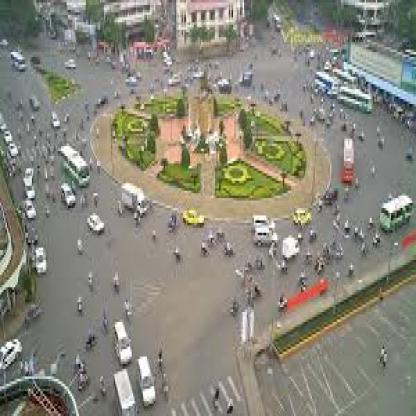car: (332, 70, 380, 123), (376, 186, 416, 247), (102, 356, 141, 416), (130, 349, 167, 406), (56, 138, 92, 192), (106, 319, 138, 369), (116, 180, 152, 224), (333, 134, 359, 192), (311, 69, 343, 103), (56, 179, 79, 218), (275, 231, 303, 262), (85, 208, 108, 245), (180, 202, 206, 234), (285, 202, 313, 230), (26, 162, 43, 203), (252, 226, 282, 249), (31, 247, 49, 282), (19, 197, 37, 224), (10, 50, 29, 73), (7, 140, 21, 164), (51, 107, 63, 133)
